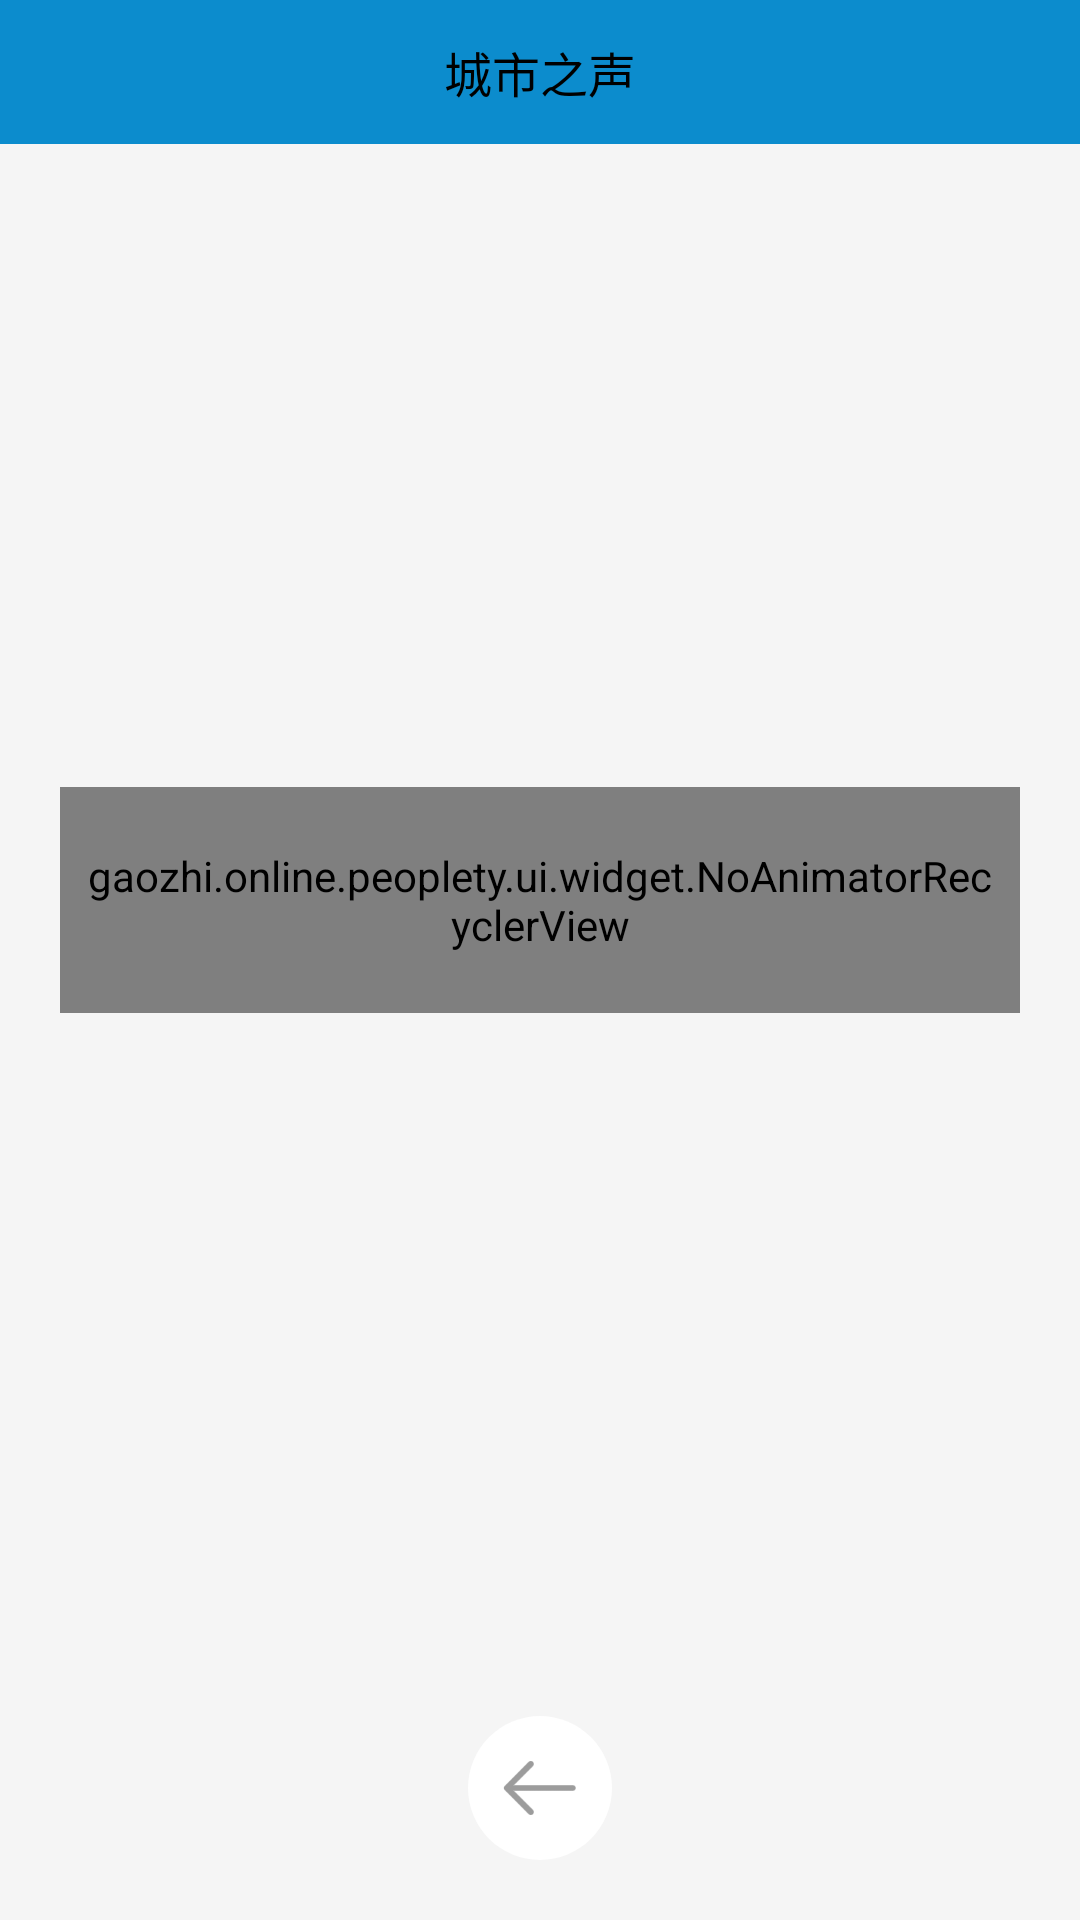

Screen size 1080x1920. Icon name, then its box in pixels as (x1, y1, x2, y2):
arrow left: (468, 1716, 612, 1860)
